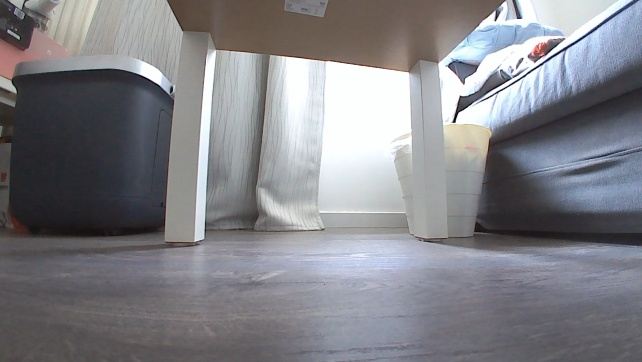sofe1: (447, 0, 641, 238)
